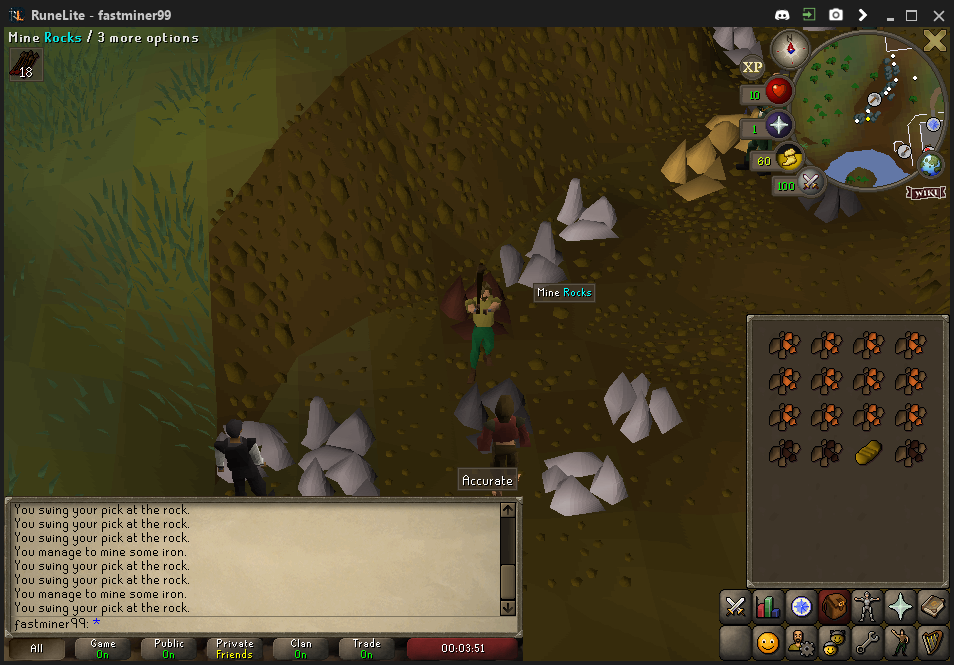depleted: (460, 375, 532, 454)
ore: (436, 266, 507, 347)
